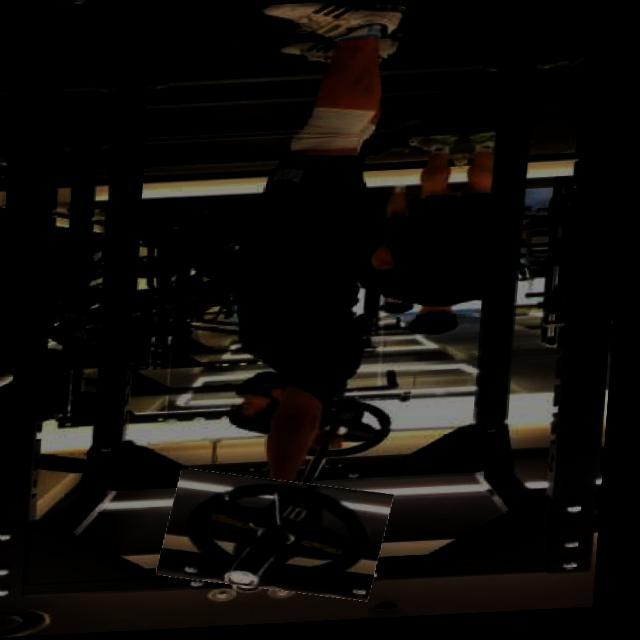barbell: (168, 472, 401, 607)
